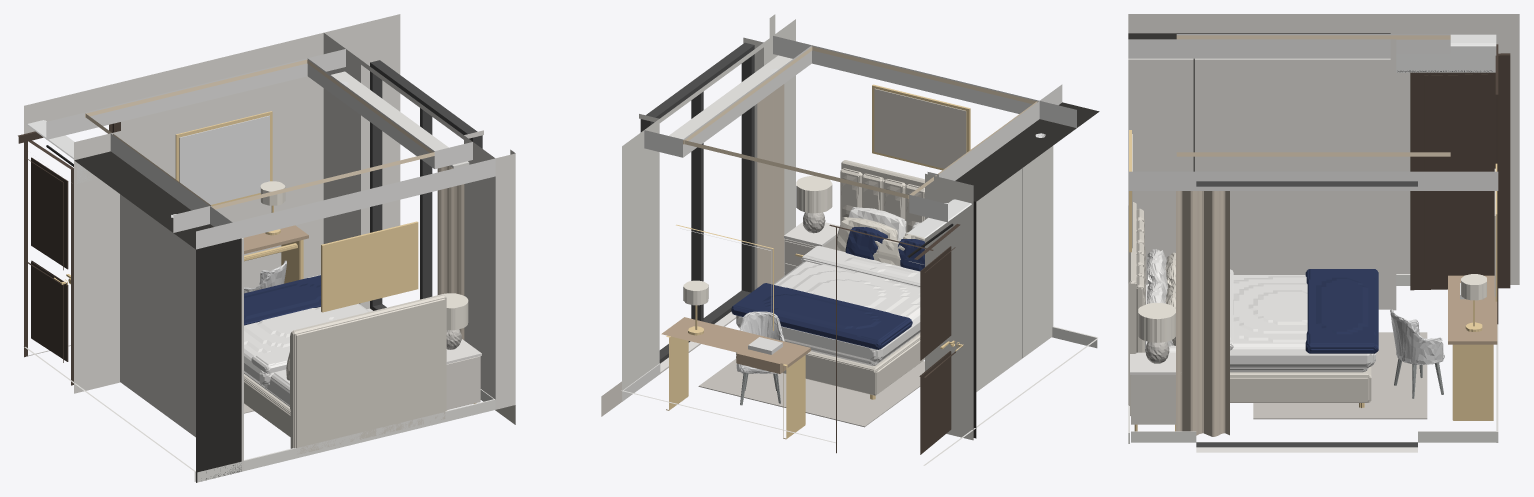
Rendered from ROOM2.glb.
3 views of the same model, side by side, from view 1: azimuth 30°, elevation 25°; view 2: azimuth 150°, elevation 25°; view 3: azimuth 270°, elevation 25° (orthographic). The views are drawn at different scales.
Parts seen in each view (by area): view 1: WEB_ROOM2; view 2: WEB_ROOM2; view 3: WEB_ROOM2.
Part boxes in pixels (x1=…): WEB_ROOM2: x1=18, y1=14, x2=515, y2=482; WEB_ROOM2: x1=601, y1=14, x2=1099, y2=465; WEB_ROOM2: x1=1128, y1=14, x2=1519, y2=452.
Size of the model in its own units: 3.98 by 2.7 by 3.27.
